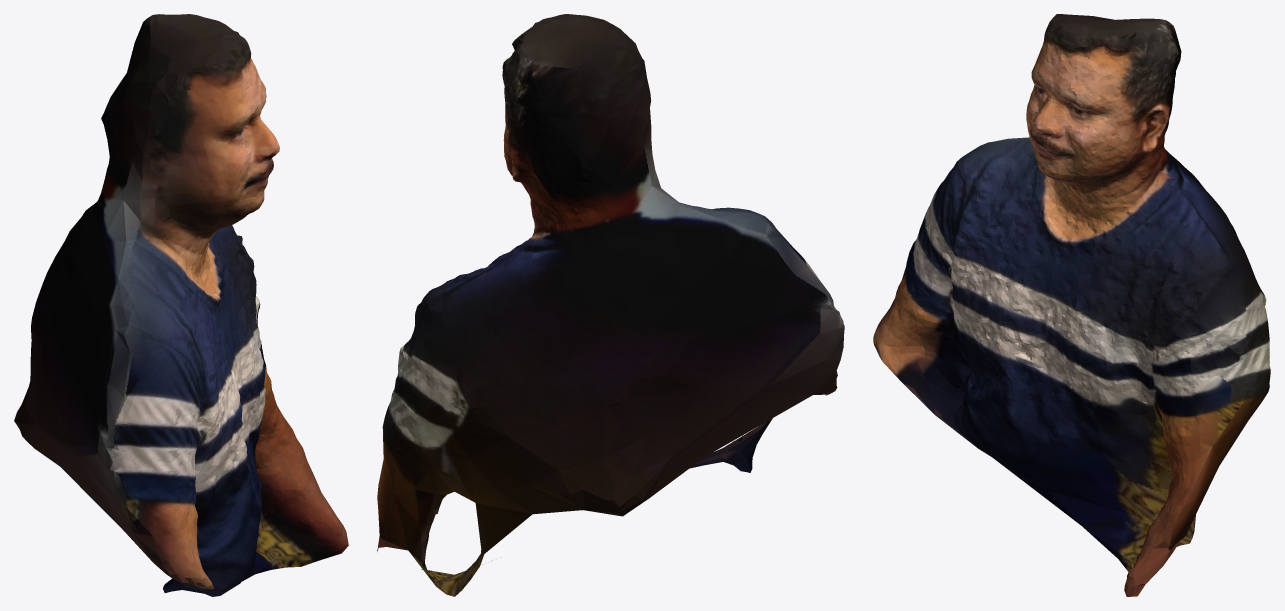
3 views of the same model, side by side, from view 1: azimuth 30°, elevation 25°; view 2: azimuth 150°, elevation 25°; view 3: azimuth 270°, elevation 25° (orthographic). The views are drawn at different scales.
Size of the model in its own units: 0.8683 by 1.35 by 0.9442.
1 material, 1 textured.
